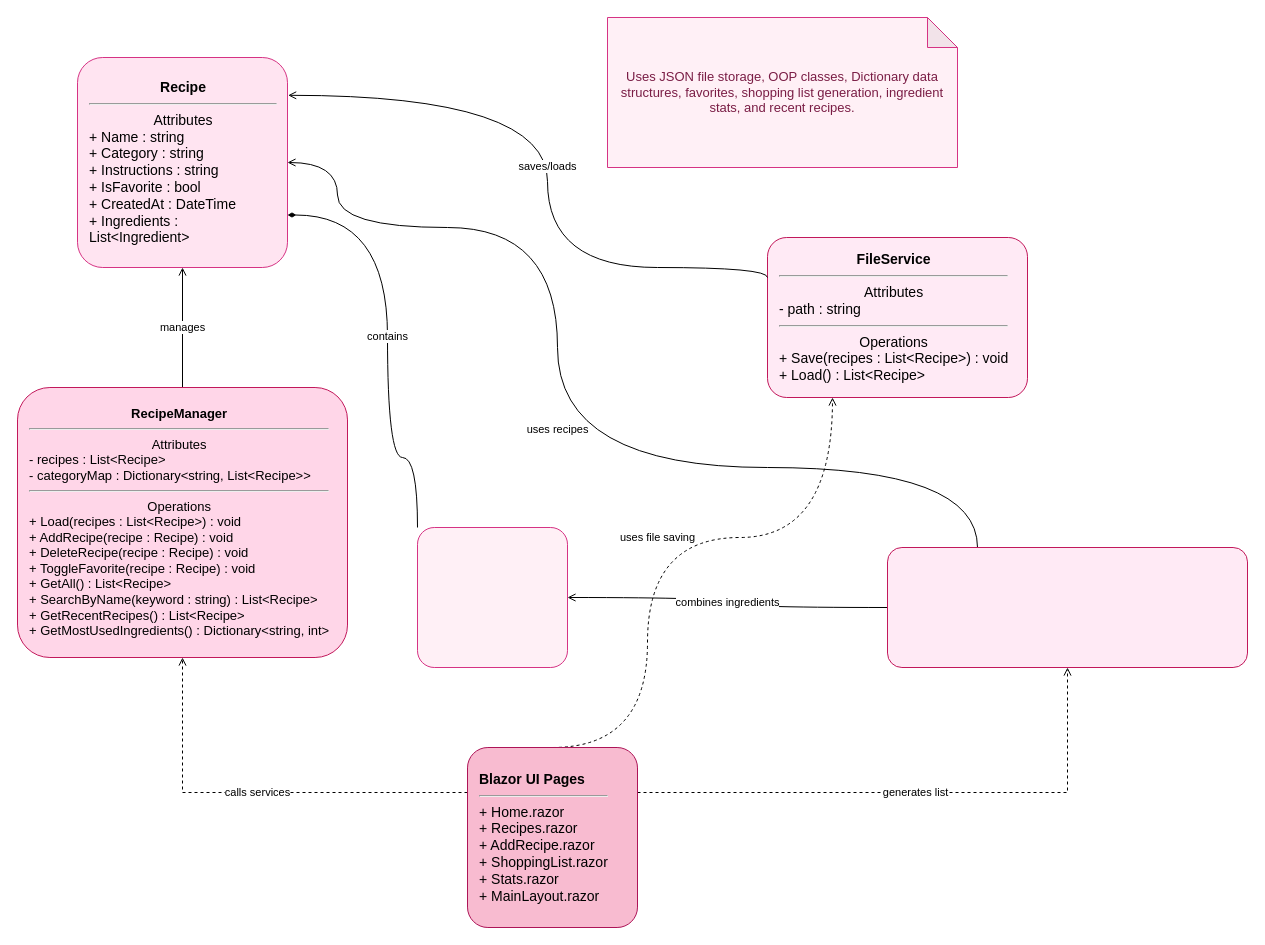
Some shapes in this 1265 by 945 pixel diagram are drawn without their labels. Each missing label, with the box of its shape:
Ingredient Attributes + Name : string + Quantity : double + Unit : string: (416, 526, 568, 668)
ShoppingListService + Generate(recipes : List<Recipe>) : List<Ingredient>: (886, 546, 1248, 668)
